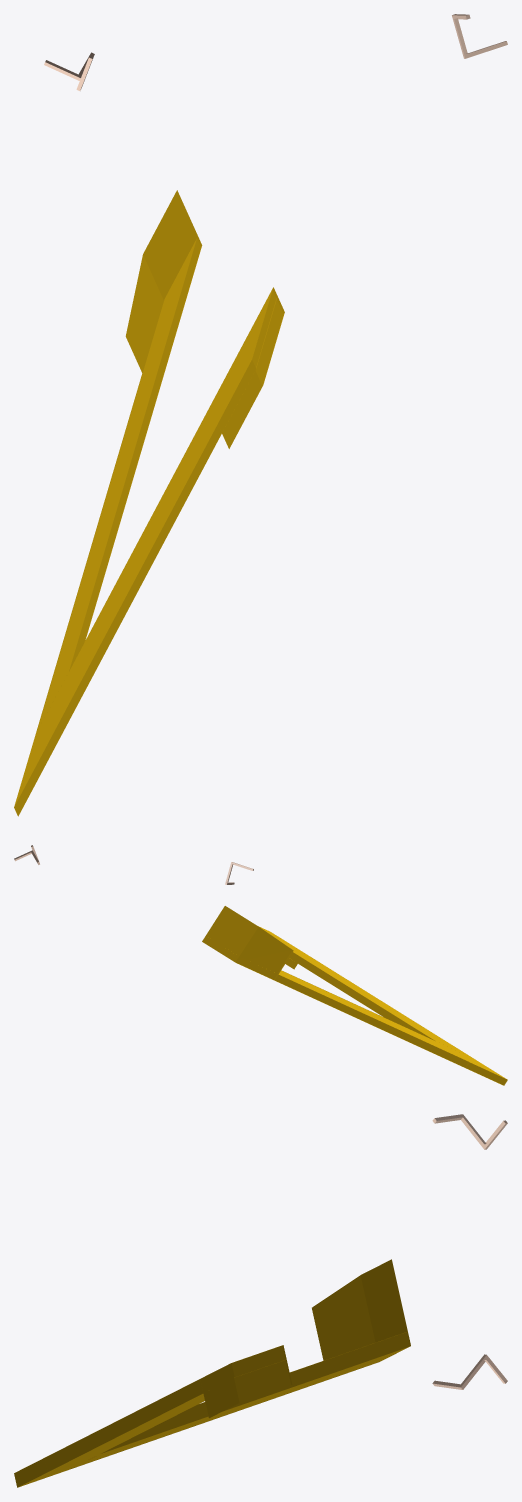
File: Double_Triangle.gltf
The picture shows the model from 3 angles, top to bottom: view 1: azimuth 30°, elevation 25°; view 2: azimuth 150°, elevation 25°; view 3: azimuth 270°, elevation 25°; orthographic projection. The views are drawn at different scales.
Parts seen in each view (by area): view 1: 3DGeom-4; view 2: 3DGeom-4; view 3: 3DGeom-4, Cube001, Cube.
Boxes of the visible parts, bbox=[...] form: 3DGeom-4: bbox=[14, 190, 284, 816]; 3DGeom-4: bbox=[202, 906, 507, 1085]; 3DGeom-4: bbox=[14, 1259, 410, 1487]; Cube001: bbox=[432, 1114, 507, 1149]; Cube: bbox=[432, 1354, 507, 1389].
Bounding box in the file's own units: 95.43 × 67.74 × 58.59.
